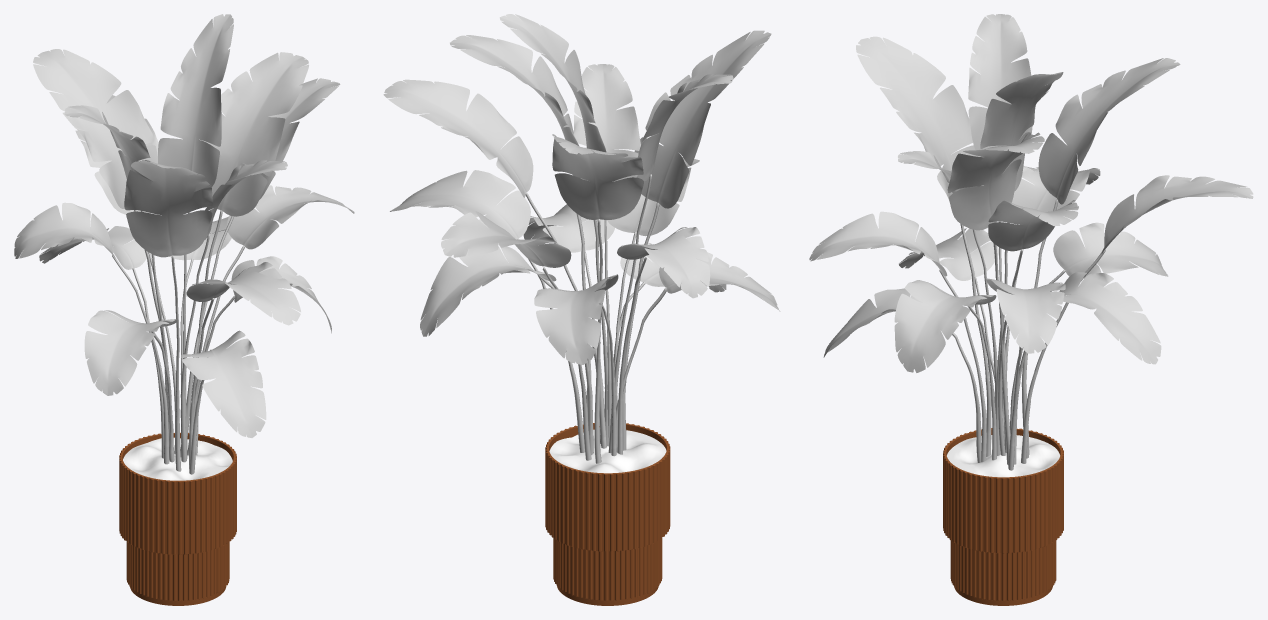
File: Plant_1.FBX
3 views of the same model, side by side, from view 1: azimuth 30°, elevation 25°; view 2: azimuth 150°, elevation 25°; view 3: azimuth 270°, elevation 25° (orthographic). The views are drawn at different scales.
Visible parts, largest first — view 1: SM_Plant_1; view 2: SM_Plant_1; view 3: SM_Plant_1.
Boxes of the visible parts, bbox=[...] form: SM_Plant_1: bbox=[14, 14, 354, 605]; SM_Plant_1: bbox=[383, 14, 780, 605]; SM_Plant_1: bbox=[809, 14, 1253, 605].
Bounding box in the file's own units: 70.65 × 114 × 83.99.
